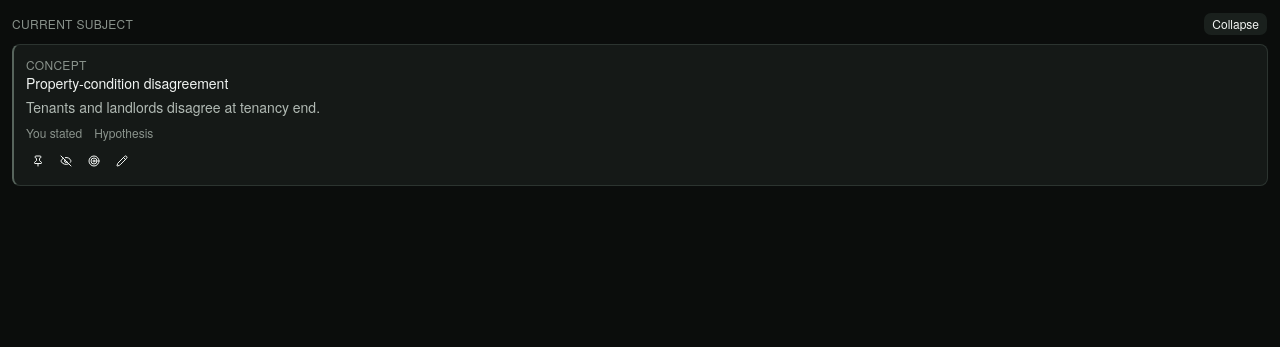
editing the user's own meaning › recovers when the save request is rejected outright
The image size is (1280, 347).
Click the button named "Edit Property-condition disagreement": [122, 161] box left=110, top=149, right=134, bottom=173
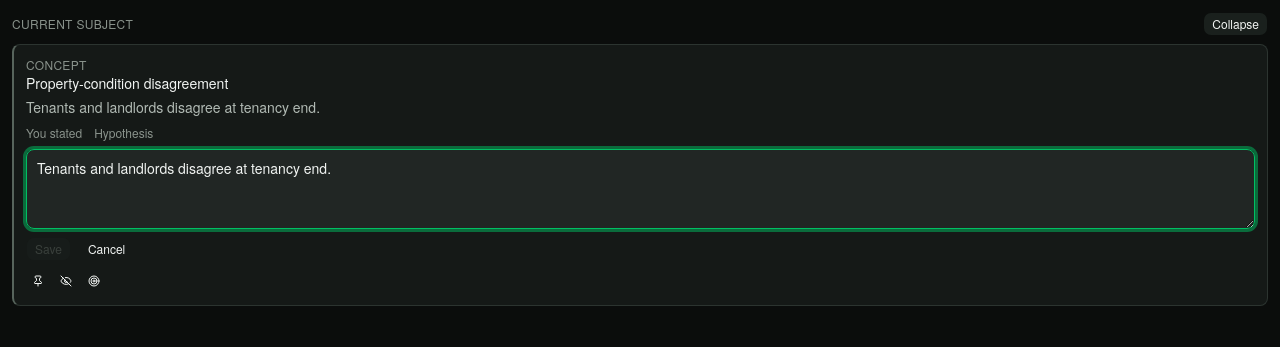
Replace the text in the text box named "Edit Property-condition disagreement" with "Revised wording": [640, 189] box left=26, top=149, right=1255, bottom=229
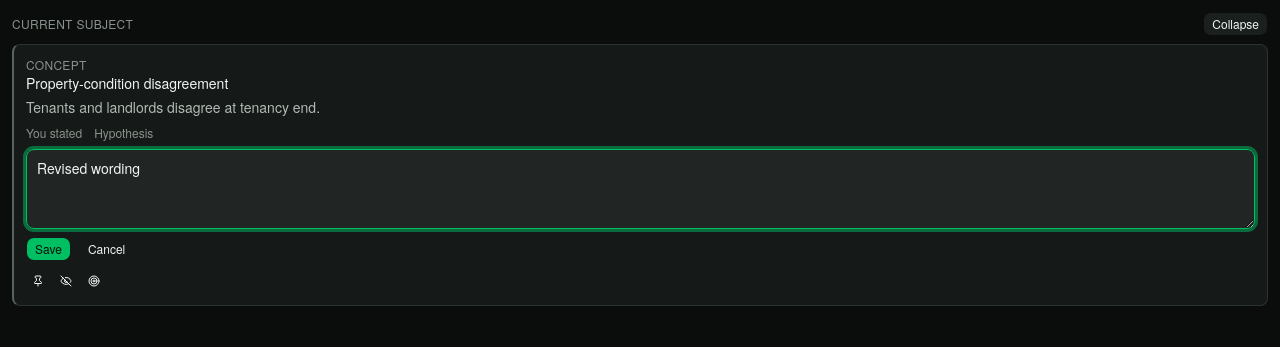
Click the button "Save": [48, 249] box left=26, top=237, right=71, bottom=261
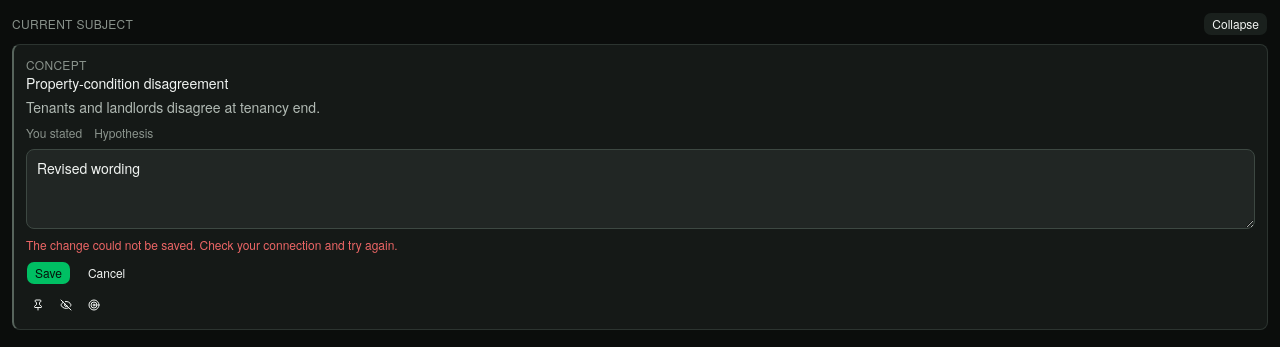
Check: the button "Save" is enabled, box left=26, top=261, right=71, bottom=285
Check: the message shows "could not be saved", box left=26, top=236, right=398, bottom=253
